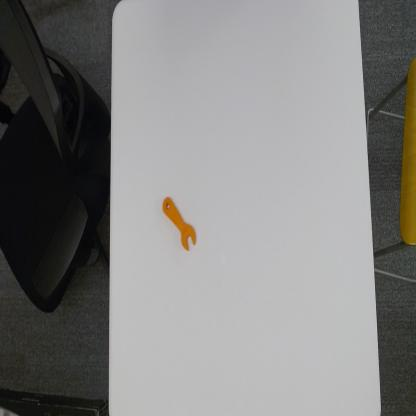Screwdriver: (160, 192, 198, 257)
